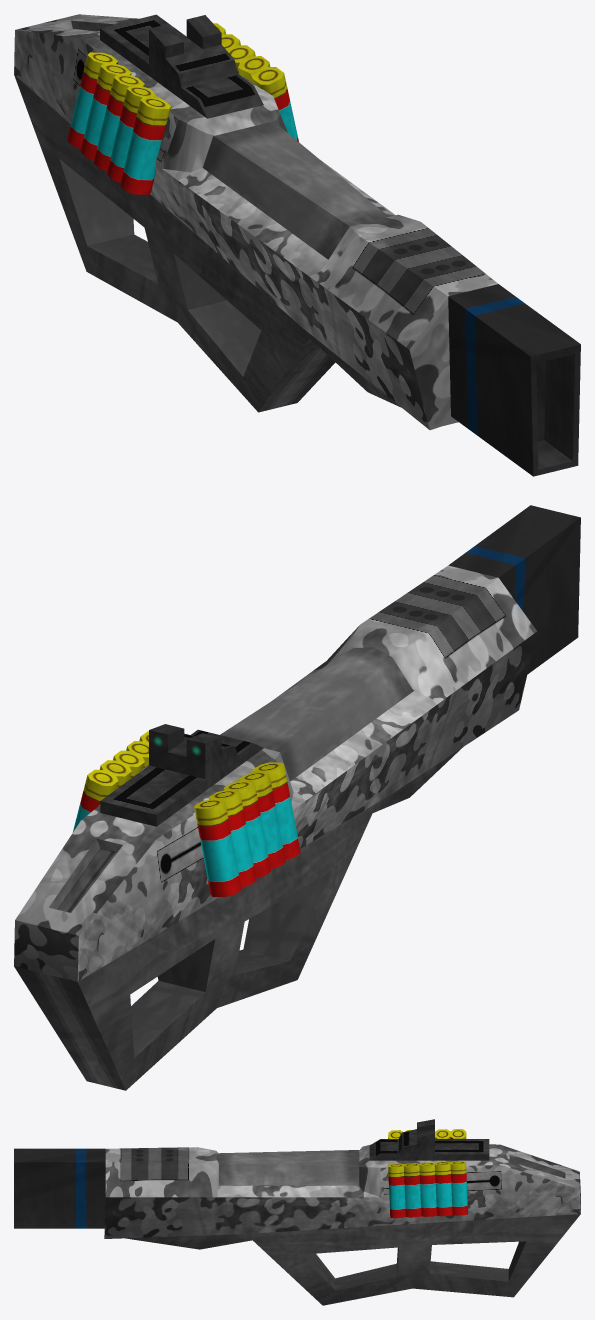
The model's file is Shotgun.fbx.
3 renders of one model, top to bottom at view 1: azimuth 30°, elevation 25°; view 2: azimuth 150°, elevation 25°; view 3: azimuth 270°, elevation 25°, orthographic. The views are drawn at different scales.
Parts seen in each view (by area): view 1: Shotgun, ShotgunBarrel, ShotgunShell; view 2: Shotgun, ShotgunShell, ShotgunBarrel; view 3: Shotgun, ShotgunBarrel, ShotgunShell.
Part boxes in pixels (x1=…): Shotgun: x1=14, y1=14, x2=580, y2=476; ShotgunBarrel: x1=202, y1=121, x2=388, y2=259; ShotgunShell: x1=67, y1=23, x2=298, y2=194; Shotgun: x1=14, y1=505, x2=580, y2=1090; ShotgunShell: x1=73, y1=731, x2=300, y2=896; ShotgunBarrel: x1=220, y1=648, x2=414, y2=781; Shotgun: x1=14, y1=1119, x2=580, y2=1305; ShotgunBarrel: x1=216, y1=1150, x2=359, y2=1185; ShotgunShell: x1=388, y1=1129, x2=467, y2=1218.
Bounding box in the file's own units: 308 × 529 × 1566.
